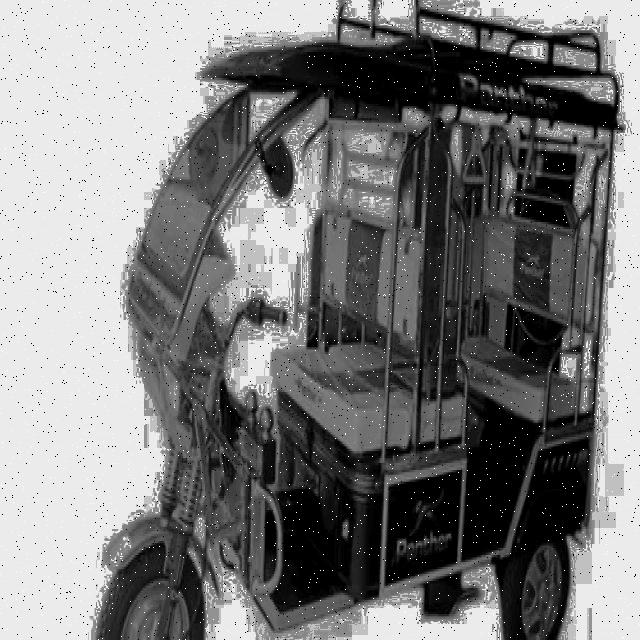Toto: (109, 35, 619, 639)
